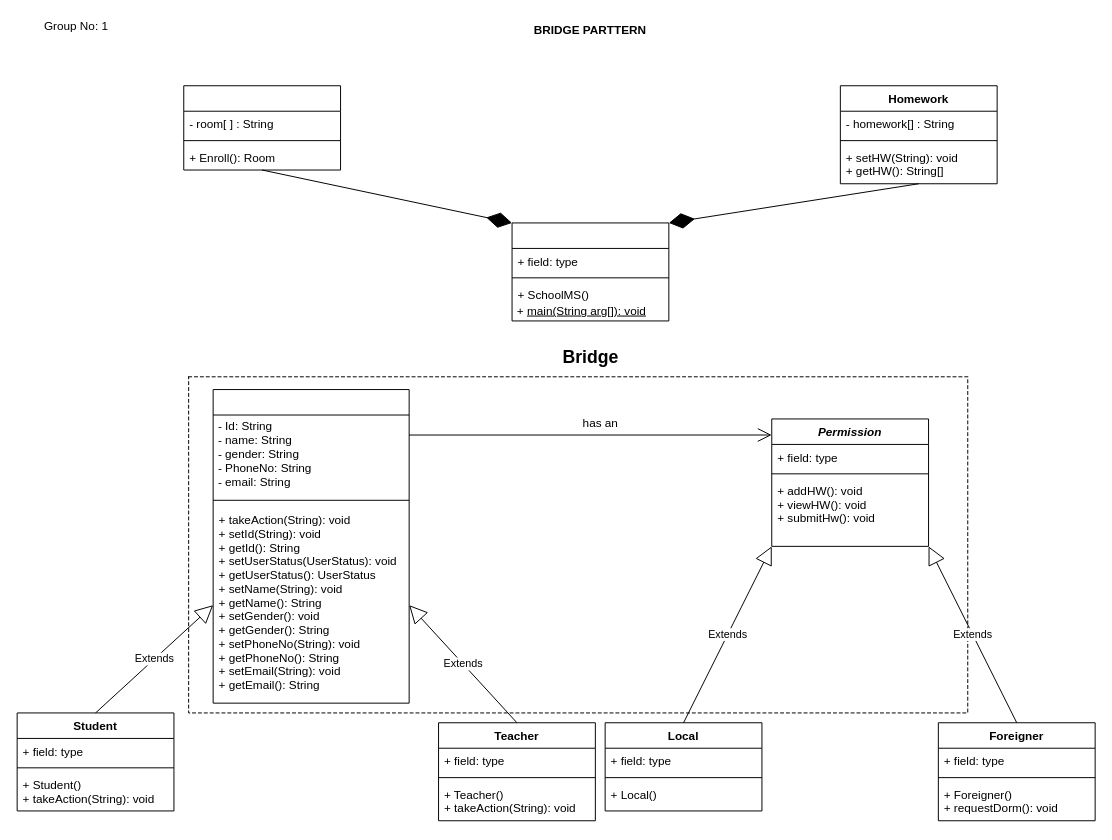
Image size: 1112x840. Some labels were removed from this diagram. The shapes that lost their labels are listed below. From the top down, each one's box as (x1, y1, x2, y2) in pixels, then its label:
(183, 85, 341, 170): Dorm
(511, 222, 669, 321): App
(212, 389, 409, 703): Person
